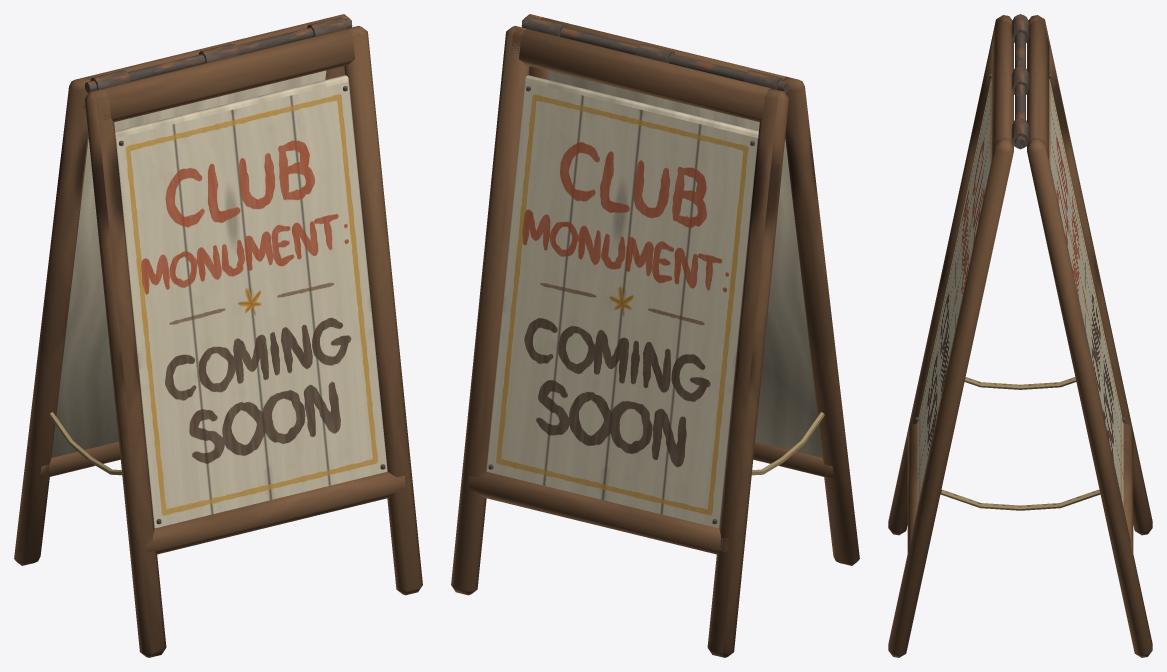
The model's file is monument-sign.glb.
3 views of the same model, side by side, from view 1: azimuth 30°, elevation 25°; view 2: azimuth 150°, elevation 25°; view 3: azimuth 270°, elevation 25° (orthographic). The views are drawn at different scales.
Parts seen in each view (by area): view 1: monument-sign; view 2: monument-sign; view 3: monument-sign.
Boxes of the visible parts, x1,y1,x2,y2 form: monument-sign: (14,14,422,657); monument-sign: (451,14,859,657); monument-sign: (888,14,1152,657).
Bounding box in the file's own units: 0.62 × 1.12 × 0.518.
Materials: 3 (3 with a texture image).
